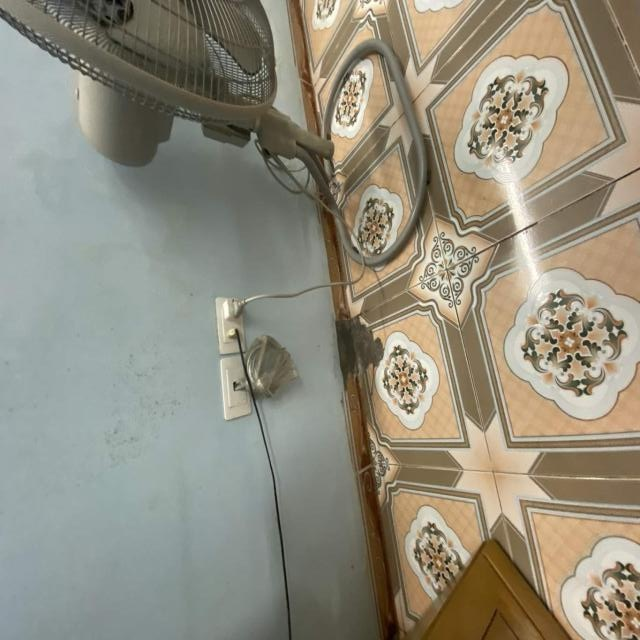outlet: (220, 355, 252, 421), (215, 297, 246, 355)
